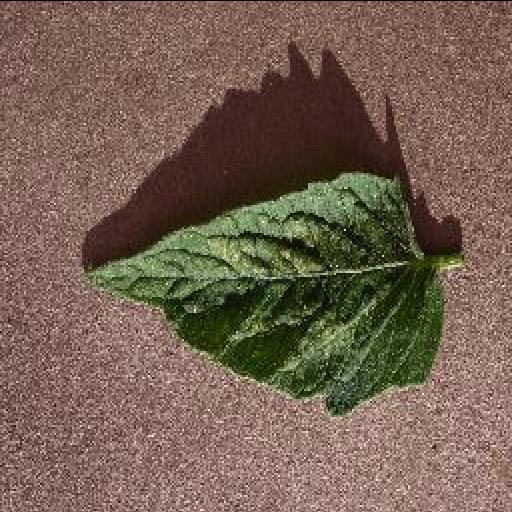disease_tomato: (83, 169, 445, 419)
